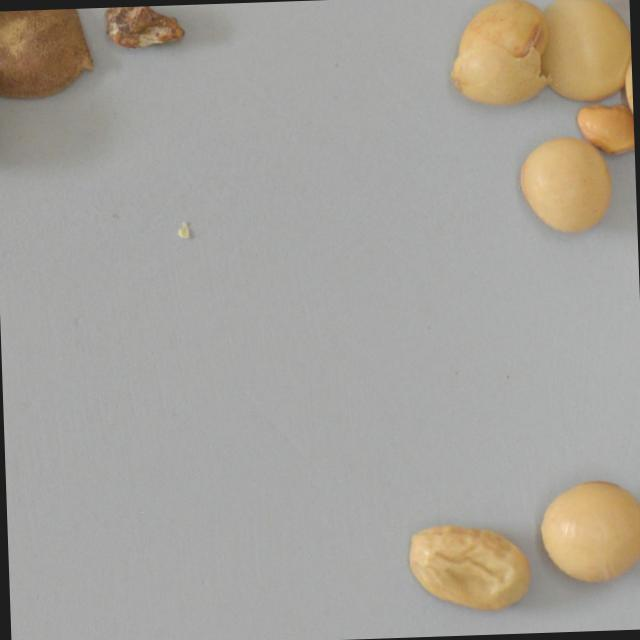cuerpos_extranos: (407, 520, 536, 616), (511, 129, 616, 237), (449, 0, 554, 105), (539, 476, 640, 584), (531, 0, 632, 101), (0, 8, 100, 96), (103, 4, 188, 53), (574, 89, 634, 156), (619, 38, 634, 142)
